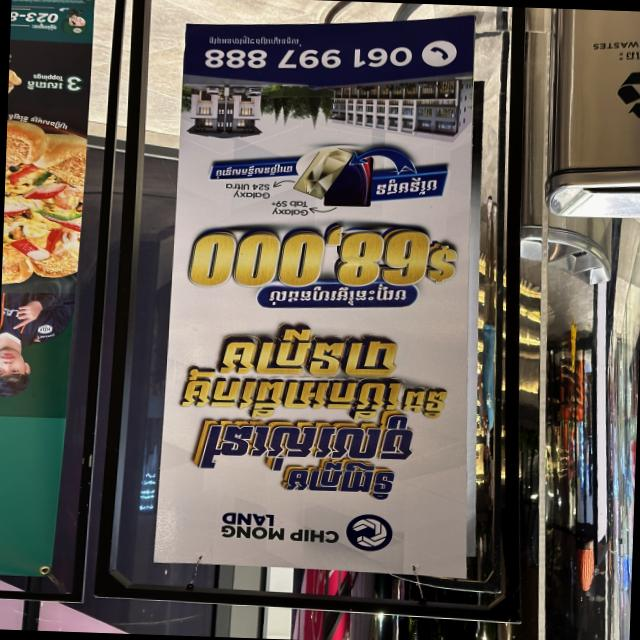168: (181, 229, 470, 289)
Yolov11_80vkh: (171, 368, 457, 420), (187, 416, 430, 471), (206, 320, 422, 376), (268, 463, 406, 509), (251, 285, 414, 310), (375, 170, 457, 203), (207, 159, 298, 183)
